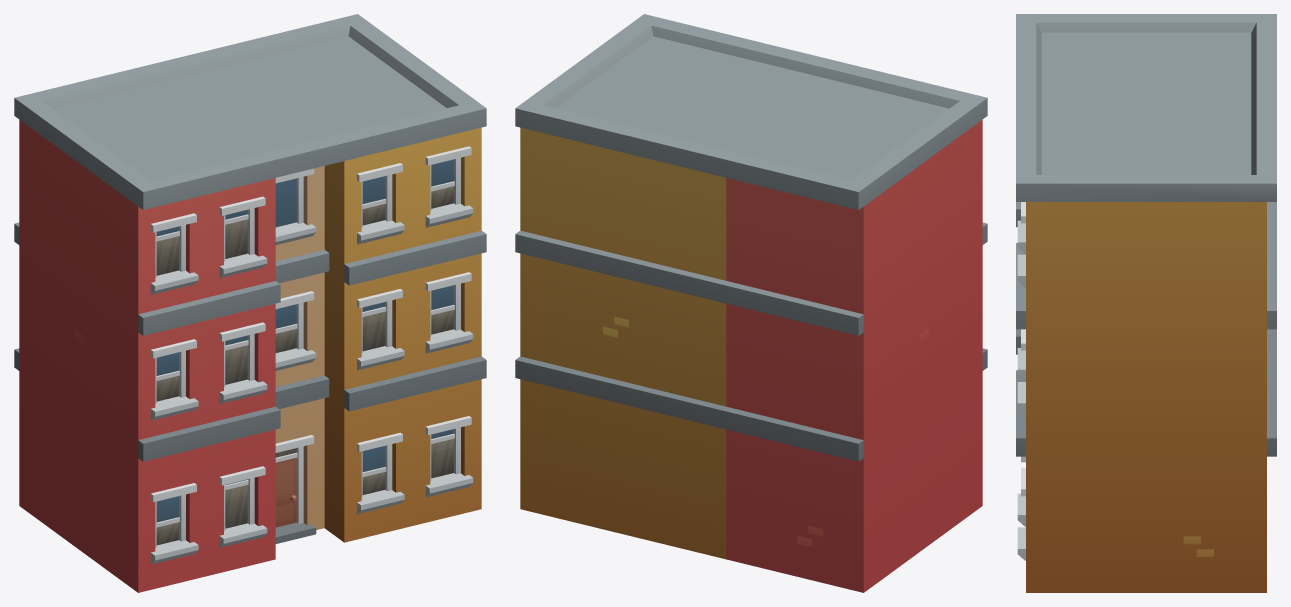
Rendered from building_F_withoutBase-processed.glb.
3 views of the same model, side by side, from view 1: azimuth 30°, elevation 25°; view 2: azimuth 150°, elevation 25°; view 3: azimuth 270°, elevation 25° (orthographic).
Visible parts, largest first — view 1: building_F_withoutBase; view 2: building_F_withoutBase; view 3: building_F_withoutBase.
Part boxes in pixels (x1=…): building_F_withoutBase: x1=14, y1=14, x2=486, y2=592; building_F_withoutBase: x1=515, y1=14, x2=987, y2=592; building_F_withoutBase: x1=1016, y1=14, x2=1276, y2=592.
Size of the model in its own units: 2.01 by 2.25 by 1.3.
1 material, 1 textured.
